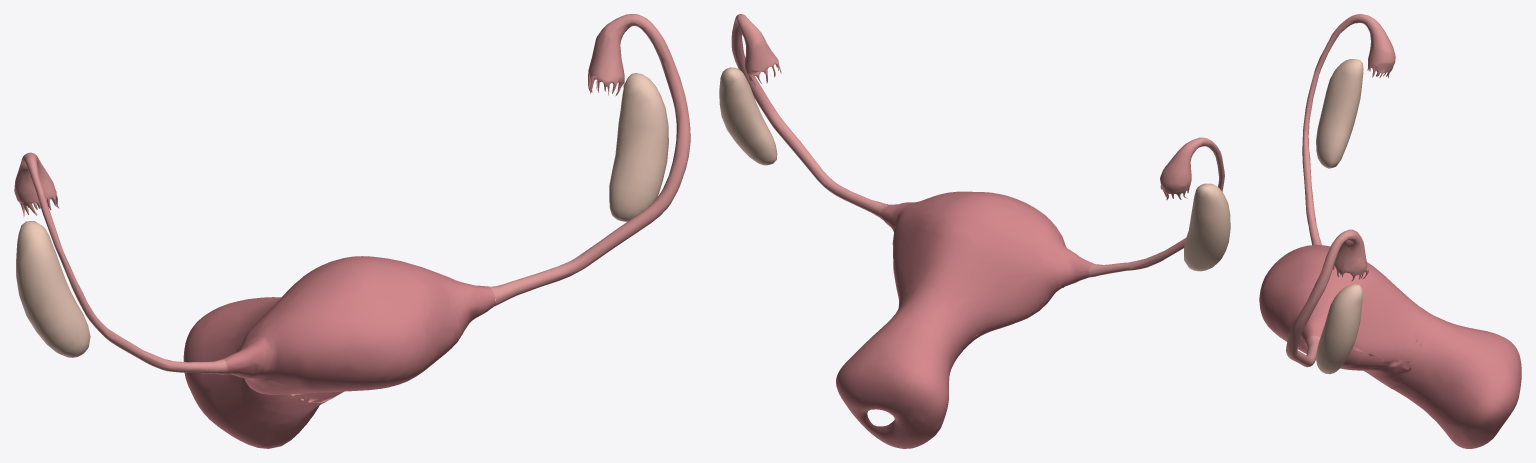
Rendered from uterus.glb.
3 views of the same model, side by side, from view 1: azimuth 30°, elevation 25°; view 2: azimuth 150°, elevation 25°; view 3: azimuth 270°, elevation 25° (orthographic). The views are drawn at different scales.
Visible parts, largest first — view 1: Uterus, Ovaries, Fallopian_tubes; view 2: Uterus, Fallopian_tubes, Ovaries; view 3: Uterus, Fallopian_tubes, Ovaries.
Boxes of the visible parts, x1,y1,x2,y2 form: Uterus: (183, 256, 494, 448); Ovaries: (16, 73, 668, 357); Fallopian_tubes: (14, 14, 690, 374); Uterus: (836, 191, 1093, 448); Fallopian_tubes: (731, 14, 1224, 277); Ovaries: (719, 67, 1230, 271); Uterus: (1259, 244, 1521, 448); Fallopian_tubes: (1286, 14, 1395, 367); Ovaries: (1316, 59, 1363, 374).
Size of the model in its own units: 2 by 1.24 by 0.9214.
